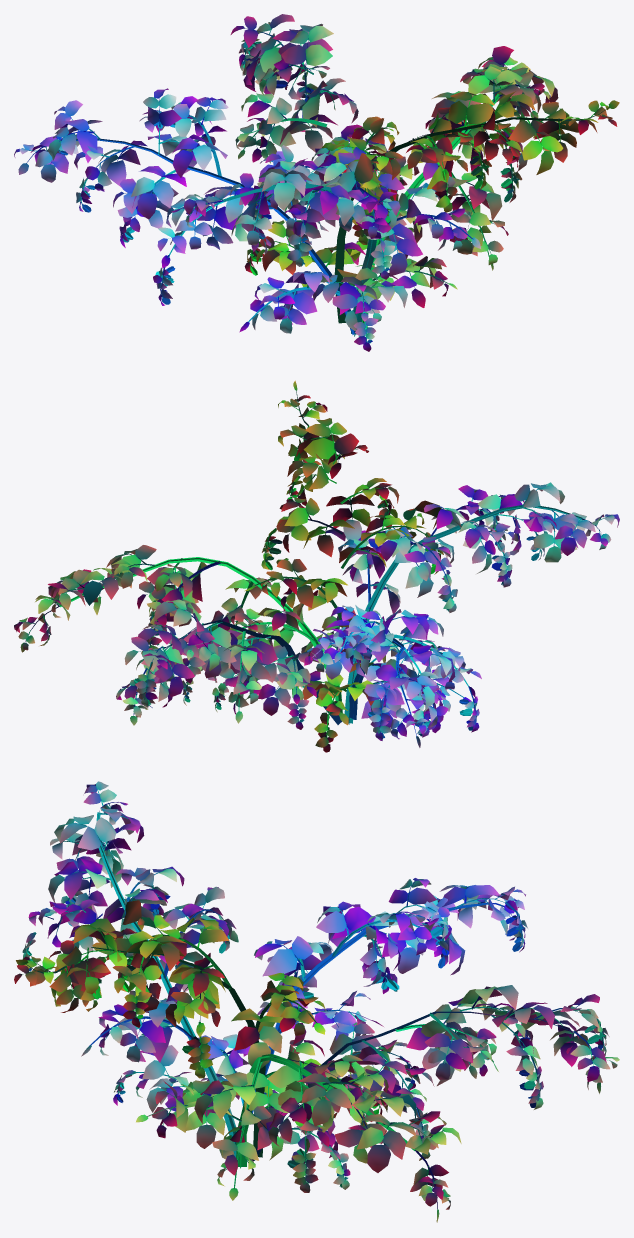
Rendered from Raspberry_wf0oefeja_High_wf0oefeja_VarD_LOD1.fbx.
3 renders of one model, top to bottom at view 1: azimuth 30°, elevation 25°; view 2: azimuth 150°, elevation 25°; view 3: azimuth 270°, elevation 25°, orthographic. The views are drawn at different scales.
Visible parts, largest first — view 1: _26cr_VarD_LOD2; view 2: _26cr_VarD_LOD2; view 3: _26cr_VarD_LOD2.
Boxes of the visible parts, x1,y1,x2,y2 form: _26cr_VarD_LOD2: [14, 14, 619, 351]; _26cr_VarD_LOD2: [14, 380, 619, 752]; _26cr_VarD_LOD2: [14, 781, 619, 1222].
Size of the model in its own units: 137 by 67.64 by 127.
